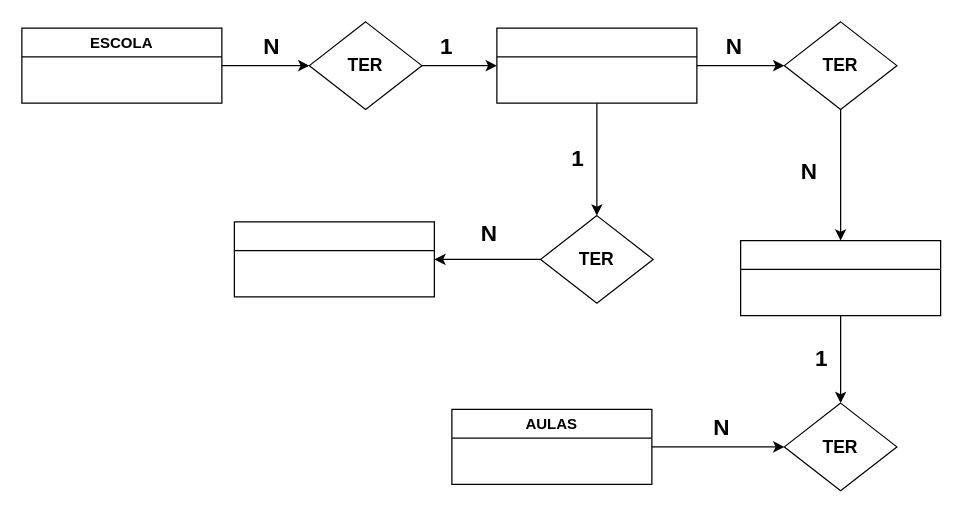
Image size: 963x513. Some labels were removed from this diagram. Here are the shapes that lost their labels. From the top down, the centre of each, then its label:
pixel 596 65: TURMA
pixel 333 259: SALA
pixel 840 277: PROFESSORES
